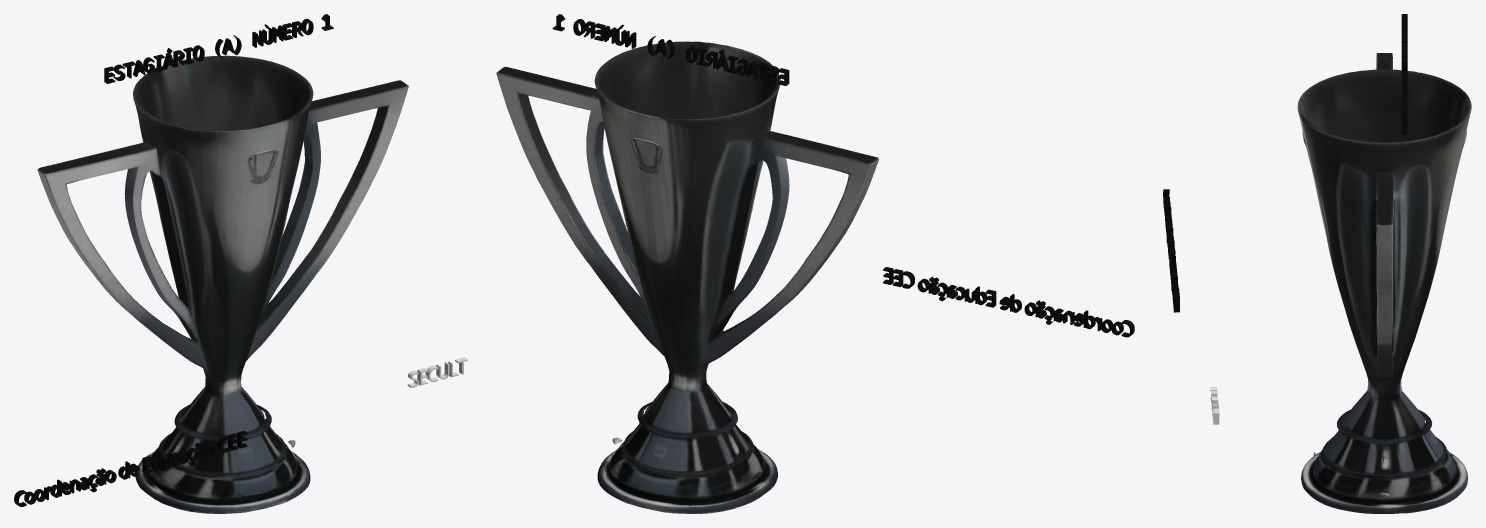
Rendered from 3d-metal-trophy.glb.
3 views of the same model, side by side, from view 1: azimuth 30°, elevation 25°; view 2: azimuth 150°, elevation 25°; view 3: azimuth 270°, elevation 25° (orthographic). The views are drawn at different scales.
Parts seen in each view (by area): view 1: world, 3D_Text_1, 3D_Text; view 2: world, 3D_Text_1, 3D_Text; view 3: world, 3D_Text_1.
Boxes of the visible parts, x1,y1,x2,y2 form: world: [37, 55, 408, 513]; 3D_Text_1: [34, 431, 247, 501]; 3D_Text: [183, 14, 333, 64]; world: [496, 41, 878, 513]; 3D_Text_1: [883, 267, 1112, 332]; 3D_Text: [552, 14, 707, 66]; world: [1297, 53, 1471, 513]; 3D_Text_1: [1164, 201, 1179, 312].
Bounding box in the file's own units: 1.37 × 1.12 × 0.7508.
4 materials, 1 textured.
